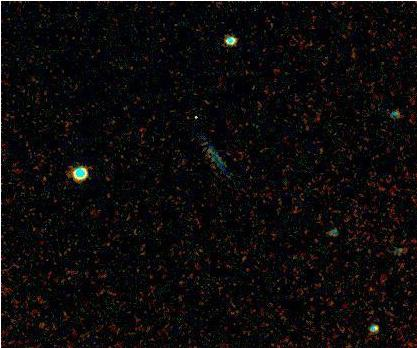star: (180, 108, 210, 138)
